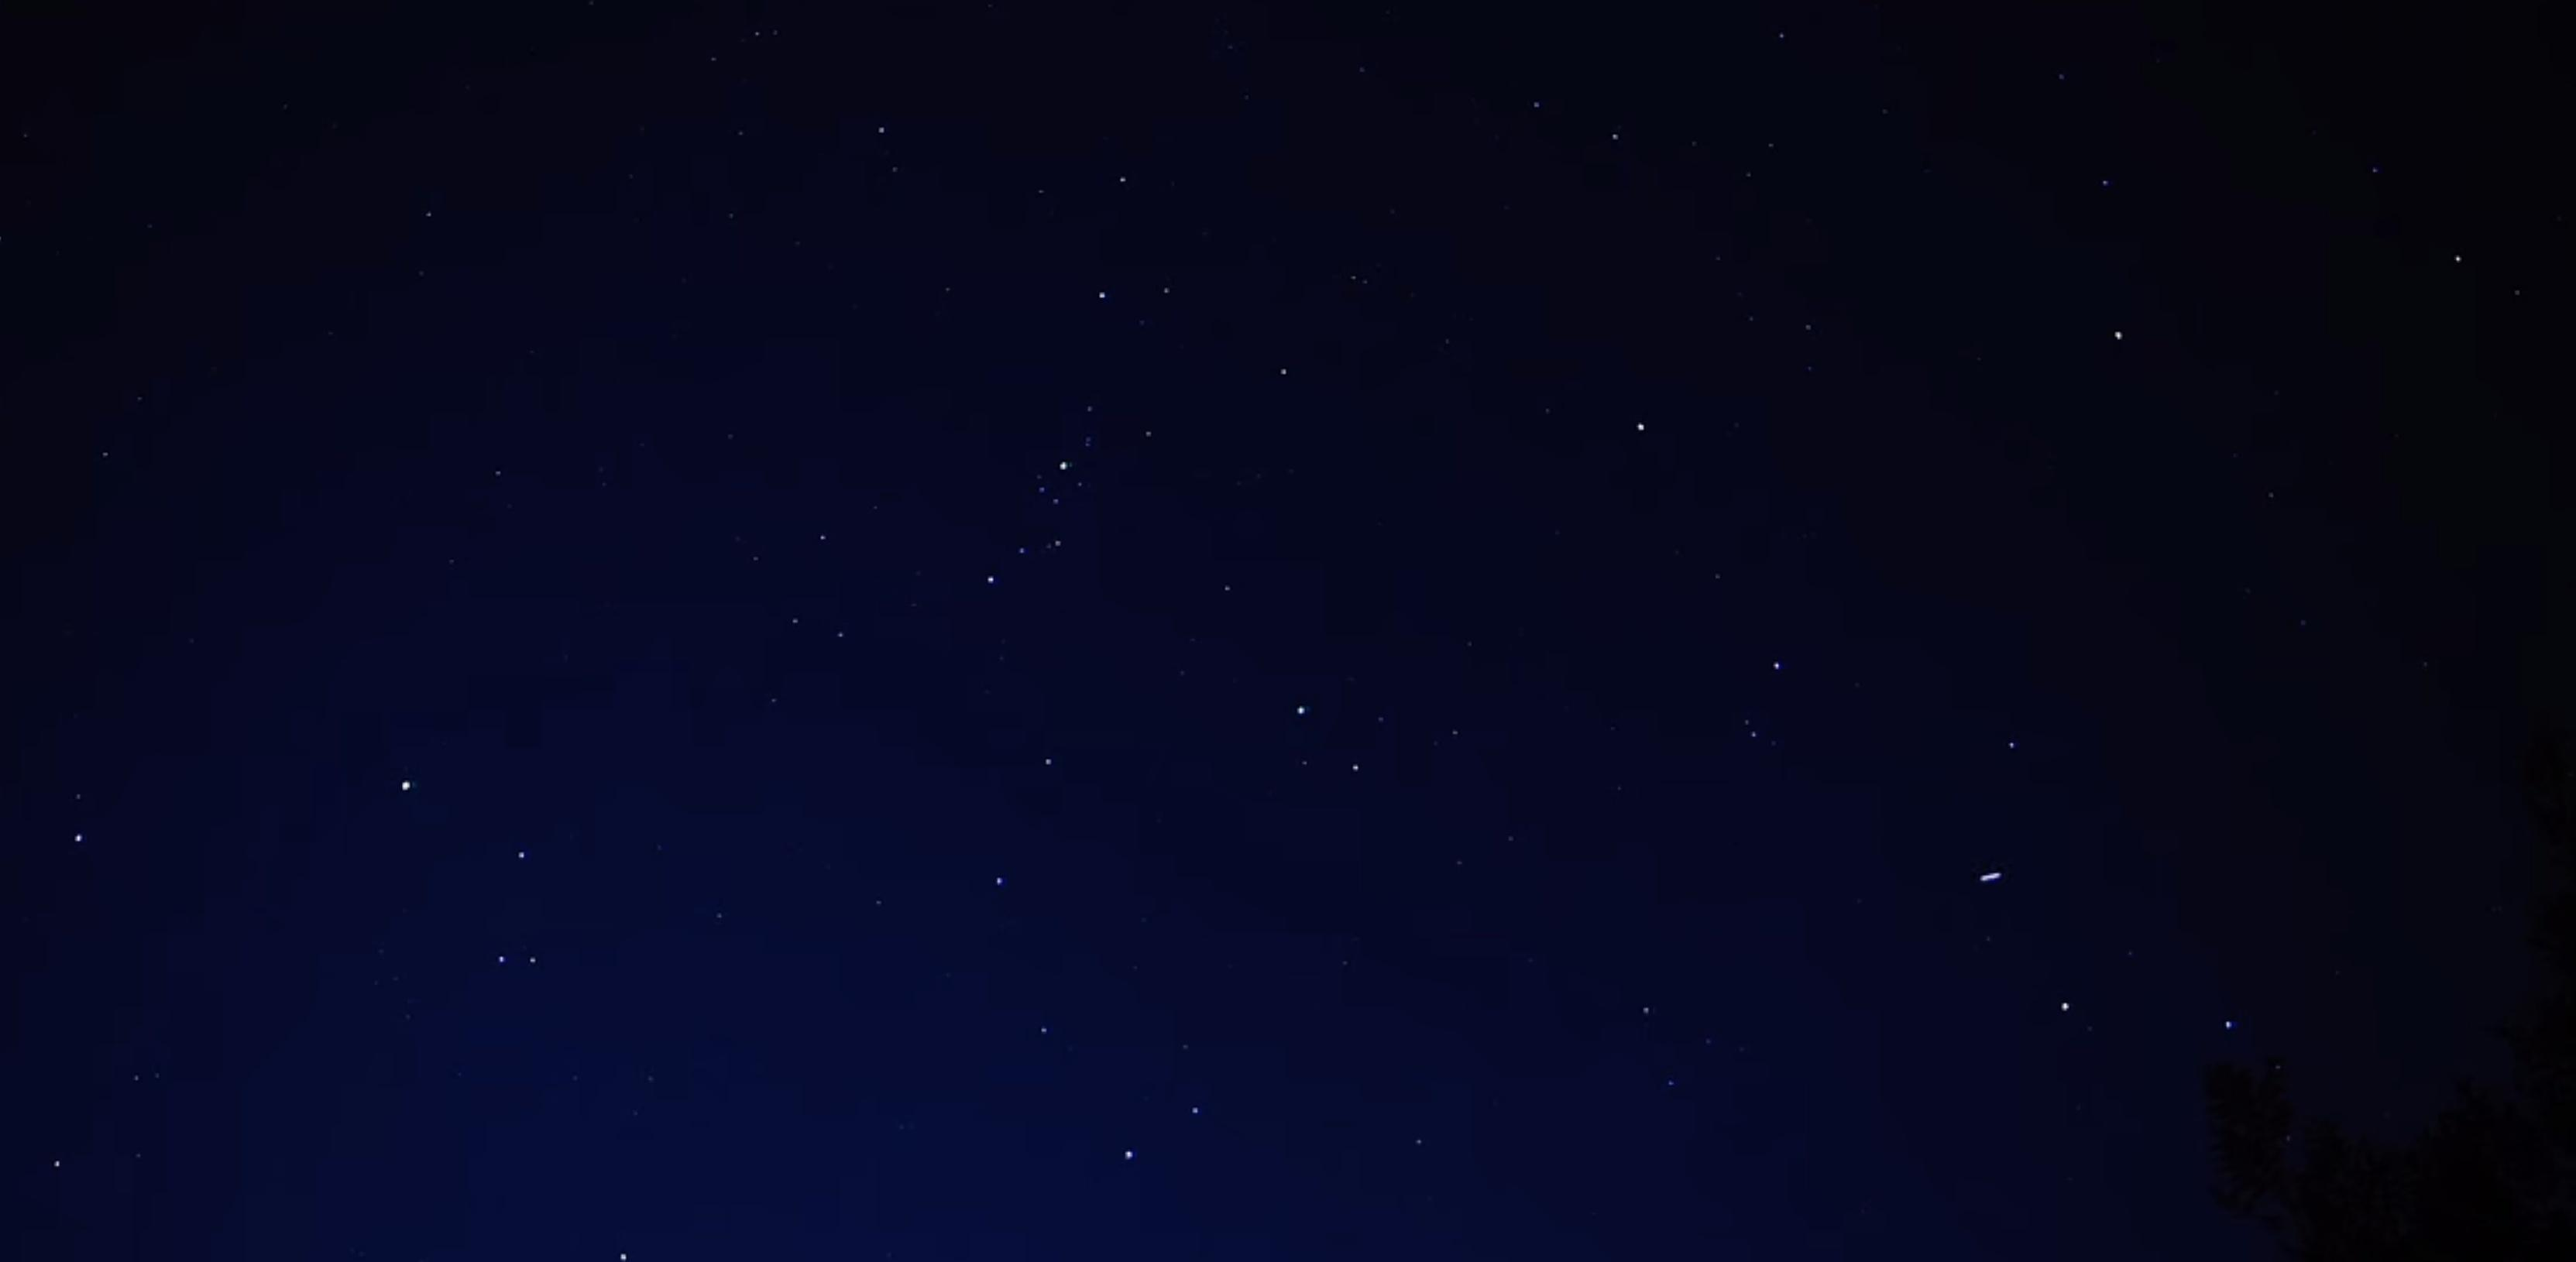meteorite: (1957, 859, 2029, 899)
